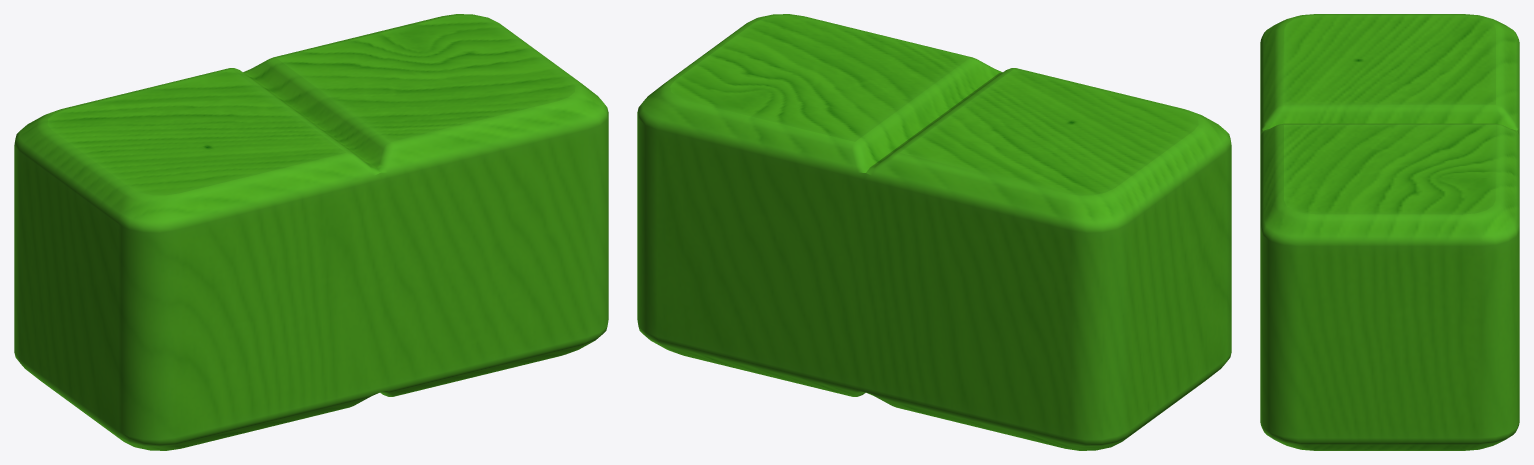
The model's file is Block_08.fbx.
The picture shows the model from 3 angles, left to right: view 1: azimuth 30°, elevation 25°; view 2: azimuth 150°, elevation 25°; view 3: azimuth 270°, elevation 25°; orthographic projection. The views are drawn at different scales.
Parts seen in each view (by area): view 1: Block_08; view 2: Block_08; view 3: Block_08.
Boxes of the visible parts, x1,y1,x2,y2 form: Block_08: (14, 14, 608, 450); Block_08: (637, 14, 1231, 450); Block_08: (1260, 14, 1519, 450).
Size of the model in its own units: 2 by 1 by 1.
1 material, 1 textured.
